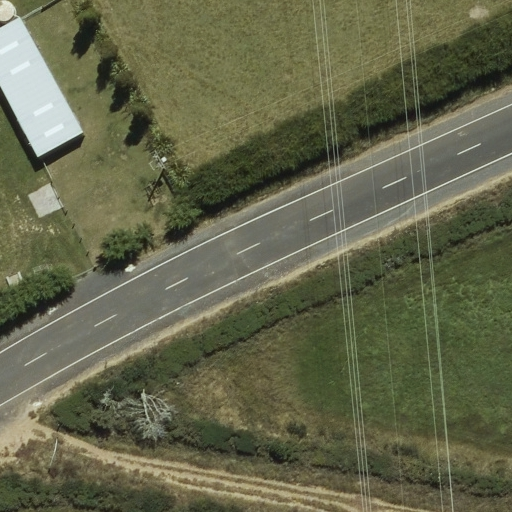DT: (143, 141, 174, 182)
